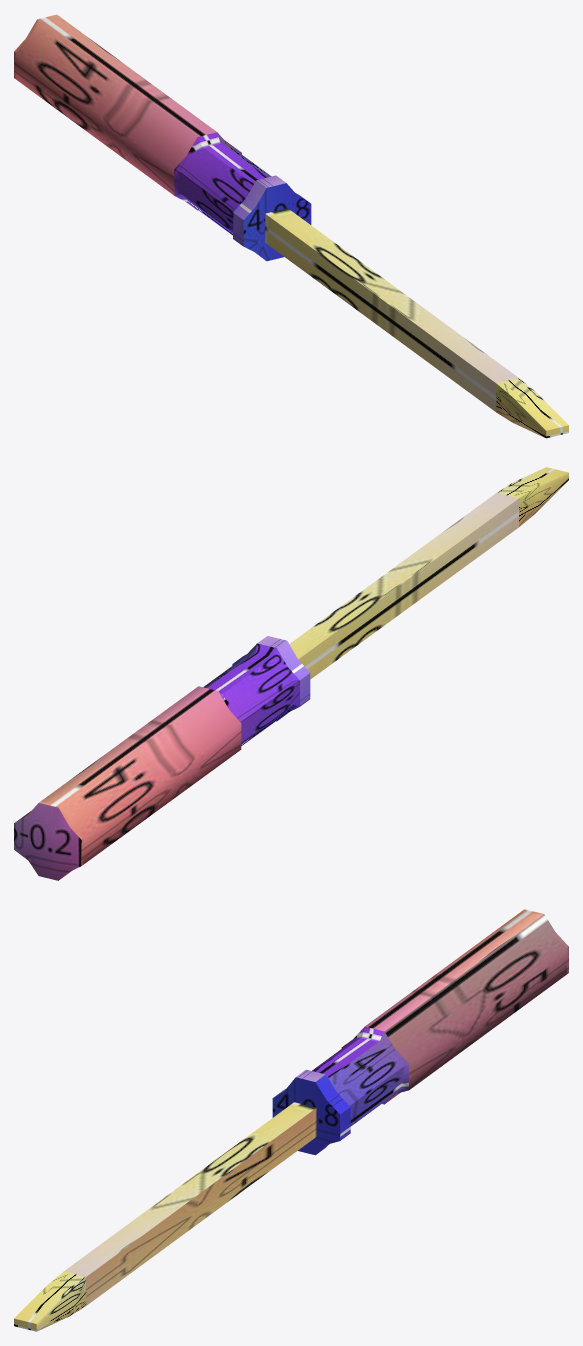
File: screwdriver2big.obj
The picture shows the model from 3 angles, top to bottom: view 1: azimuth 30°, elevation 25°; view 2: azimuth 150°, elevation 25°; view 3: azimuth 330°, elevation 25°; orthographic projection.
Visible parts, largest first — view 1: pCube1; view 2: pCube1; view 3: pCube1.
Boxes of the visible parts, x1,y1,x2,y2 form: pCube1: (14,14,568,438); pCube1: (14,467,568,880); pCube1: (14,909,568,1331).
Bounding box in the file's own units: 6.53 × 6.82 × 85.66.
Materials: 1 (1 with a texture image).
